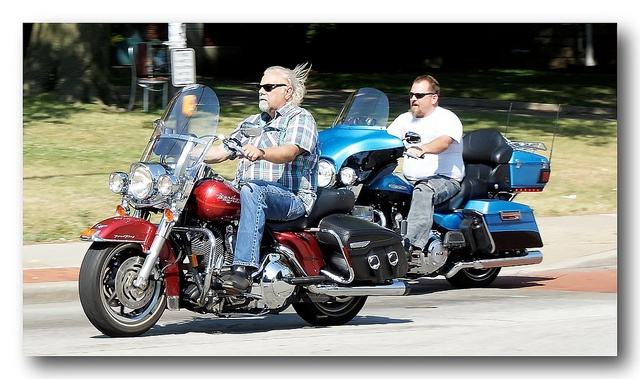non-vehicle: (76, 83, 411, 338), (313, 86, 563, 288)
